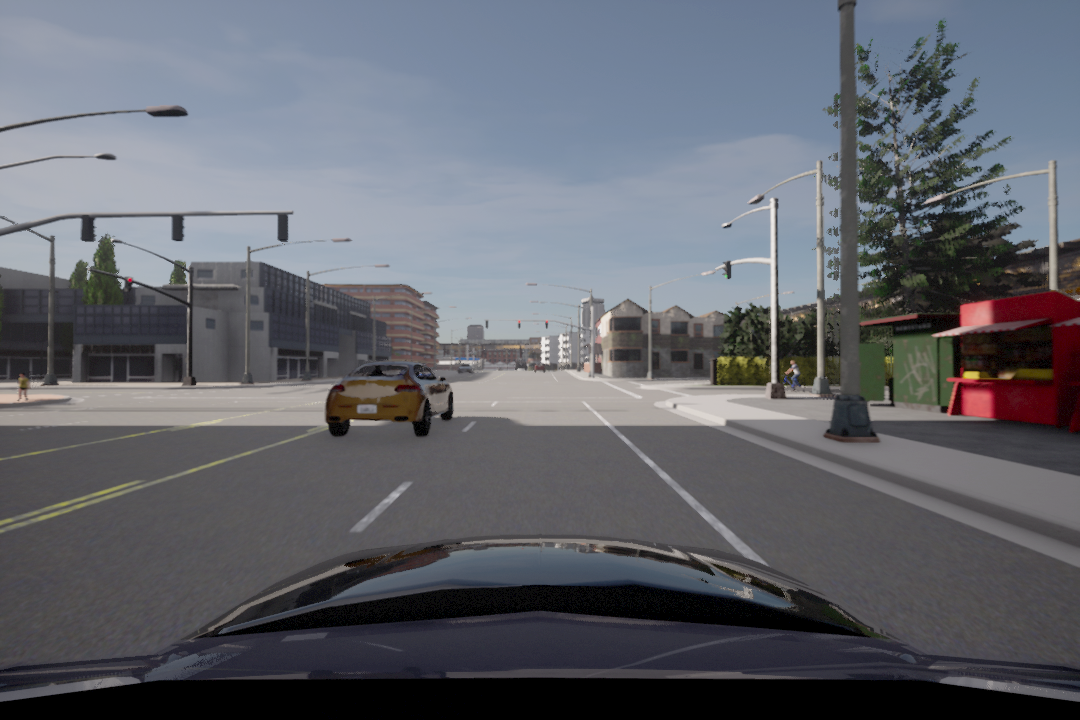TrafficLight: (721, 259, 734, 281), (124, 274, 134, 293)
